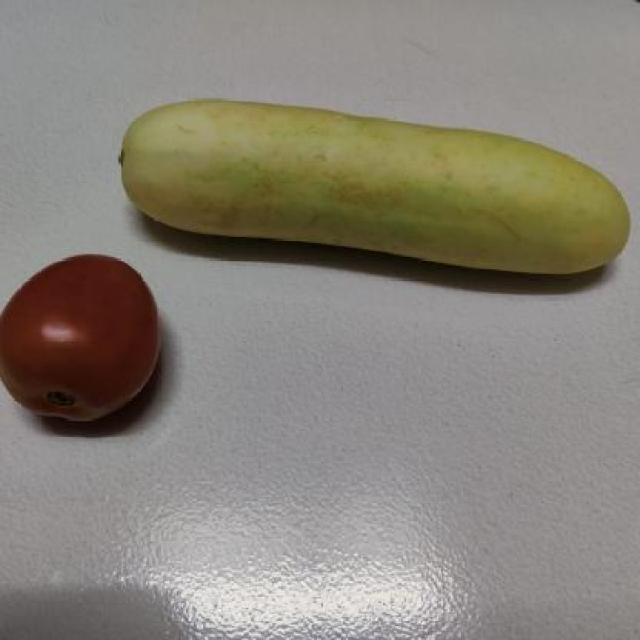Tomato: (0, 249, 162, 434)
cucumber: (115, 91, 640, 271)
